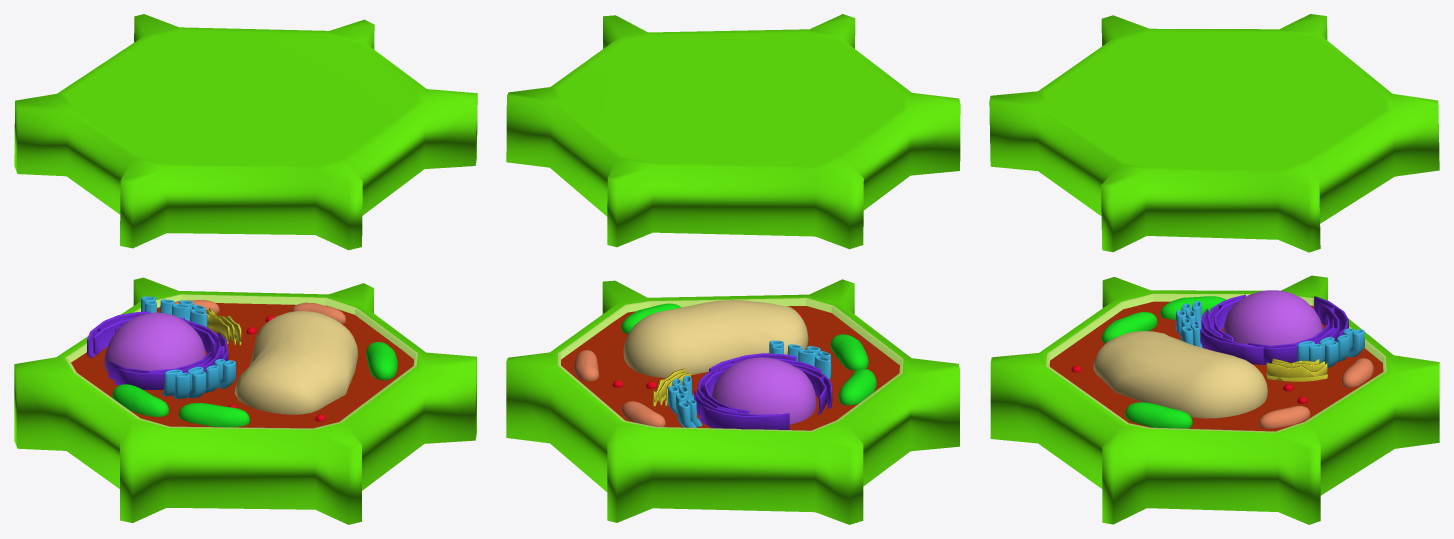
File: plant.glb
3 views of the same model, side by side, from view 1: azimuth 30°, elevation 25°; view 2: azimuth 150°, elevation 25°; view 3: azimuth 270°, elevation 25° (orthographic).
Visible parts, largest first — view 1: Dinding Sel.001, Dinding Sel, Nukleolus.005, Membran Sel.001, Nukleolus, Membran Sel, Torus.005, Cube, Cube.005, Nukleolus.002, Nukleolus.001, Nukleolus.003 (+1 smaller); view 2: Dinding Sel.001, Dinding Sel, Nukleolus.005, Membran Sel.001, Nukleolus, Membran Sel, Cube.005, Torus.005, Cube, Nukleolus.002, Nukleolus.001, Nukleolus.007 (+3 smaller); view 3: Dinding Sel.001, Dinding Sel, Nukleolus.005, Membran Sel.001, Nukleolus, Membran Sel, Torus.005, Cube, Cube.005, Nukleolus.003, Cube.001, Nukleolus.002 (+3 smaller).
Part boxes in pixels (x1=…): Dinding Sel.001: x1=14, y1=14, x2=477, y2=250; Dinding Sel: x1=14, y1=277, x2=476, y2=524; Nukleolus.005: x1=235, y1=311, x2=357, y2=414; Membran Sel.001: x1=71, y1=303, x2=413, y2=428; Nukleolus: x1=103, y1=312, x2=205, y2=372; Membran Sel: x1=65, y1=294, x2=417, y2=429; Torus.005: x1=141, y1=296, x2=235, y2=398; Cube: x1=108, y1=332, x2=228, y2=389; Cube.005: x1=87, y1=311, x2=217, y2=359; Nukleolus.002: x1=179, y1=403, x2=249, y2=427; Nukleolus.001: x1=112, y1=384, x2=168, y2=416; Nukleolus.003: x1=366, y1=342, x2=397, y2=380; Dinding Sel.001: x1=506, y1=14, x2=960, y2=249; Dinding Sel: x1=506, y1=279, x2=959, y2=524; Nukleolus.005: x1=623, y1=300, x2=808, y2=377; Membran Sel.001: x1=561, y1=306, x2=899, y2=430; Nukleolus: x1=711, y1=357, x2=816, y2=424; Membran Sel: x1=558, y1=298, x2=903, y2=431; Cube.005: x1=694, y1=367, x2=789, y2=429; Torus.005: x1=668, y1=340, x2=831, y2=427; Cube: x1=709, y1=353, x2=832, y2=414; Nukleolus.002: x1=830, y1=334, x2=868, y2=370; Nukleolus.001: x1=839, y1=368, x2=876, y2=405; Nukleolus.007: x1=621, y1=401, x2=665, y2=426; Dinding Sel.001: x1=989, y1=14, x2=1439, y2=252; Dinding Sel: x1=990, y1=275, x2=1439, y2=524; Nukleolus.005: x1=1093, y1=331, x2=1267, y2=418; Membran Sel.001: x1=1049, y1=301, x2=1383, y2=431; Nukleolus: x1=1223, y1=290, x2=1322, y2=345; Membran Sel: x1=1046, y1=293, x2=1386, y2=432; Torus.005: x1=1175, y1=301, x2=1364, y2=367; Cube: x1=1195, y1=294, x2=1264, y2=364; Cube.005: x1=1248, y1=296, x2=1348, y2=364; Nukleolus.003: x1=1125, y1=402, x2=1192, y2=428; Cube.001: x1=1266, y1=358, x2=1327, y2=381; Nukleolus.002: x1=1101, y1=312, x2=1157, y2=343.
Bounding box in the file's own units: 5.92 × 5.4 × 6.47.
